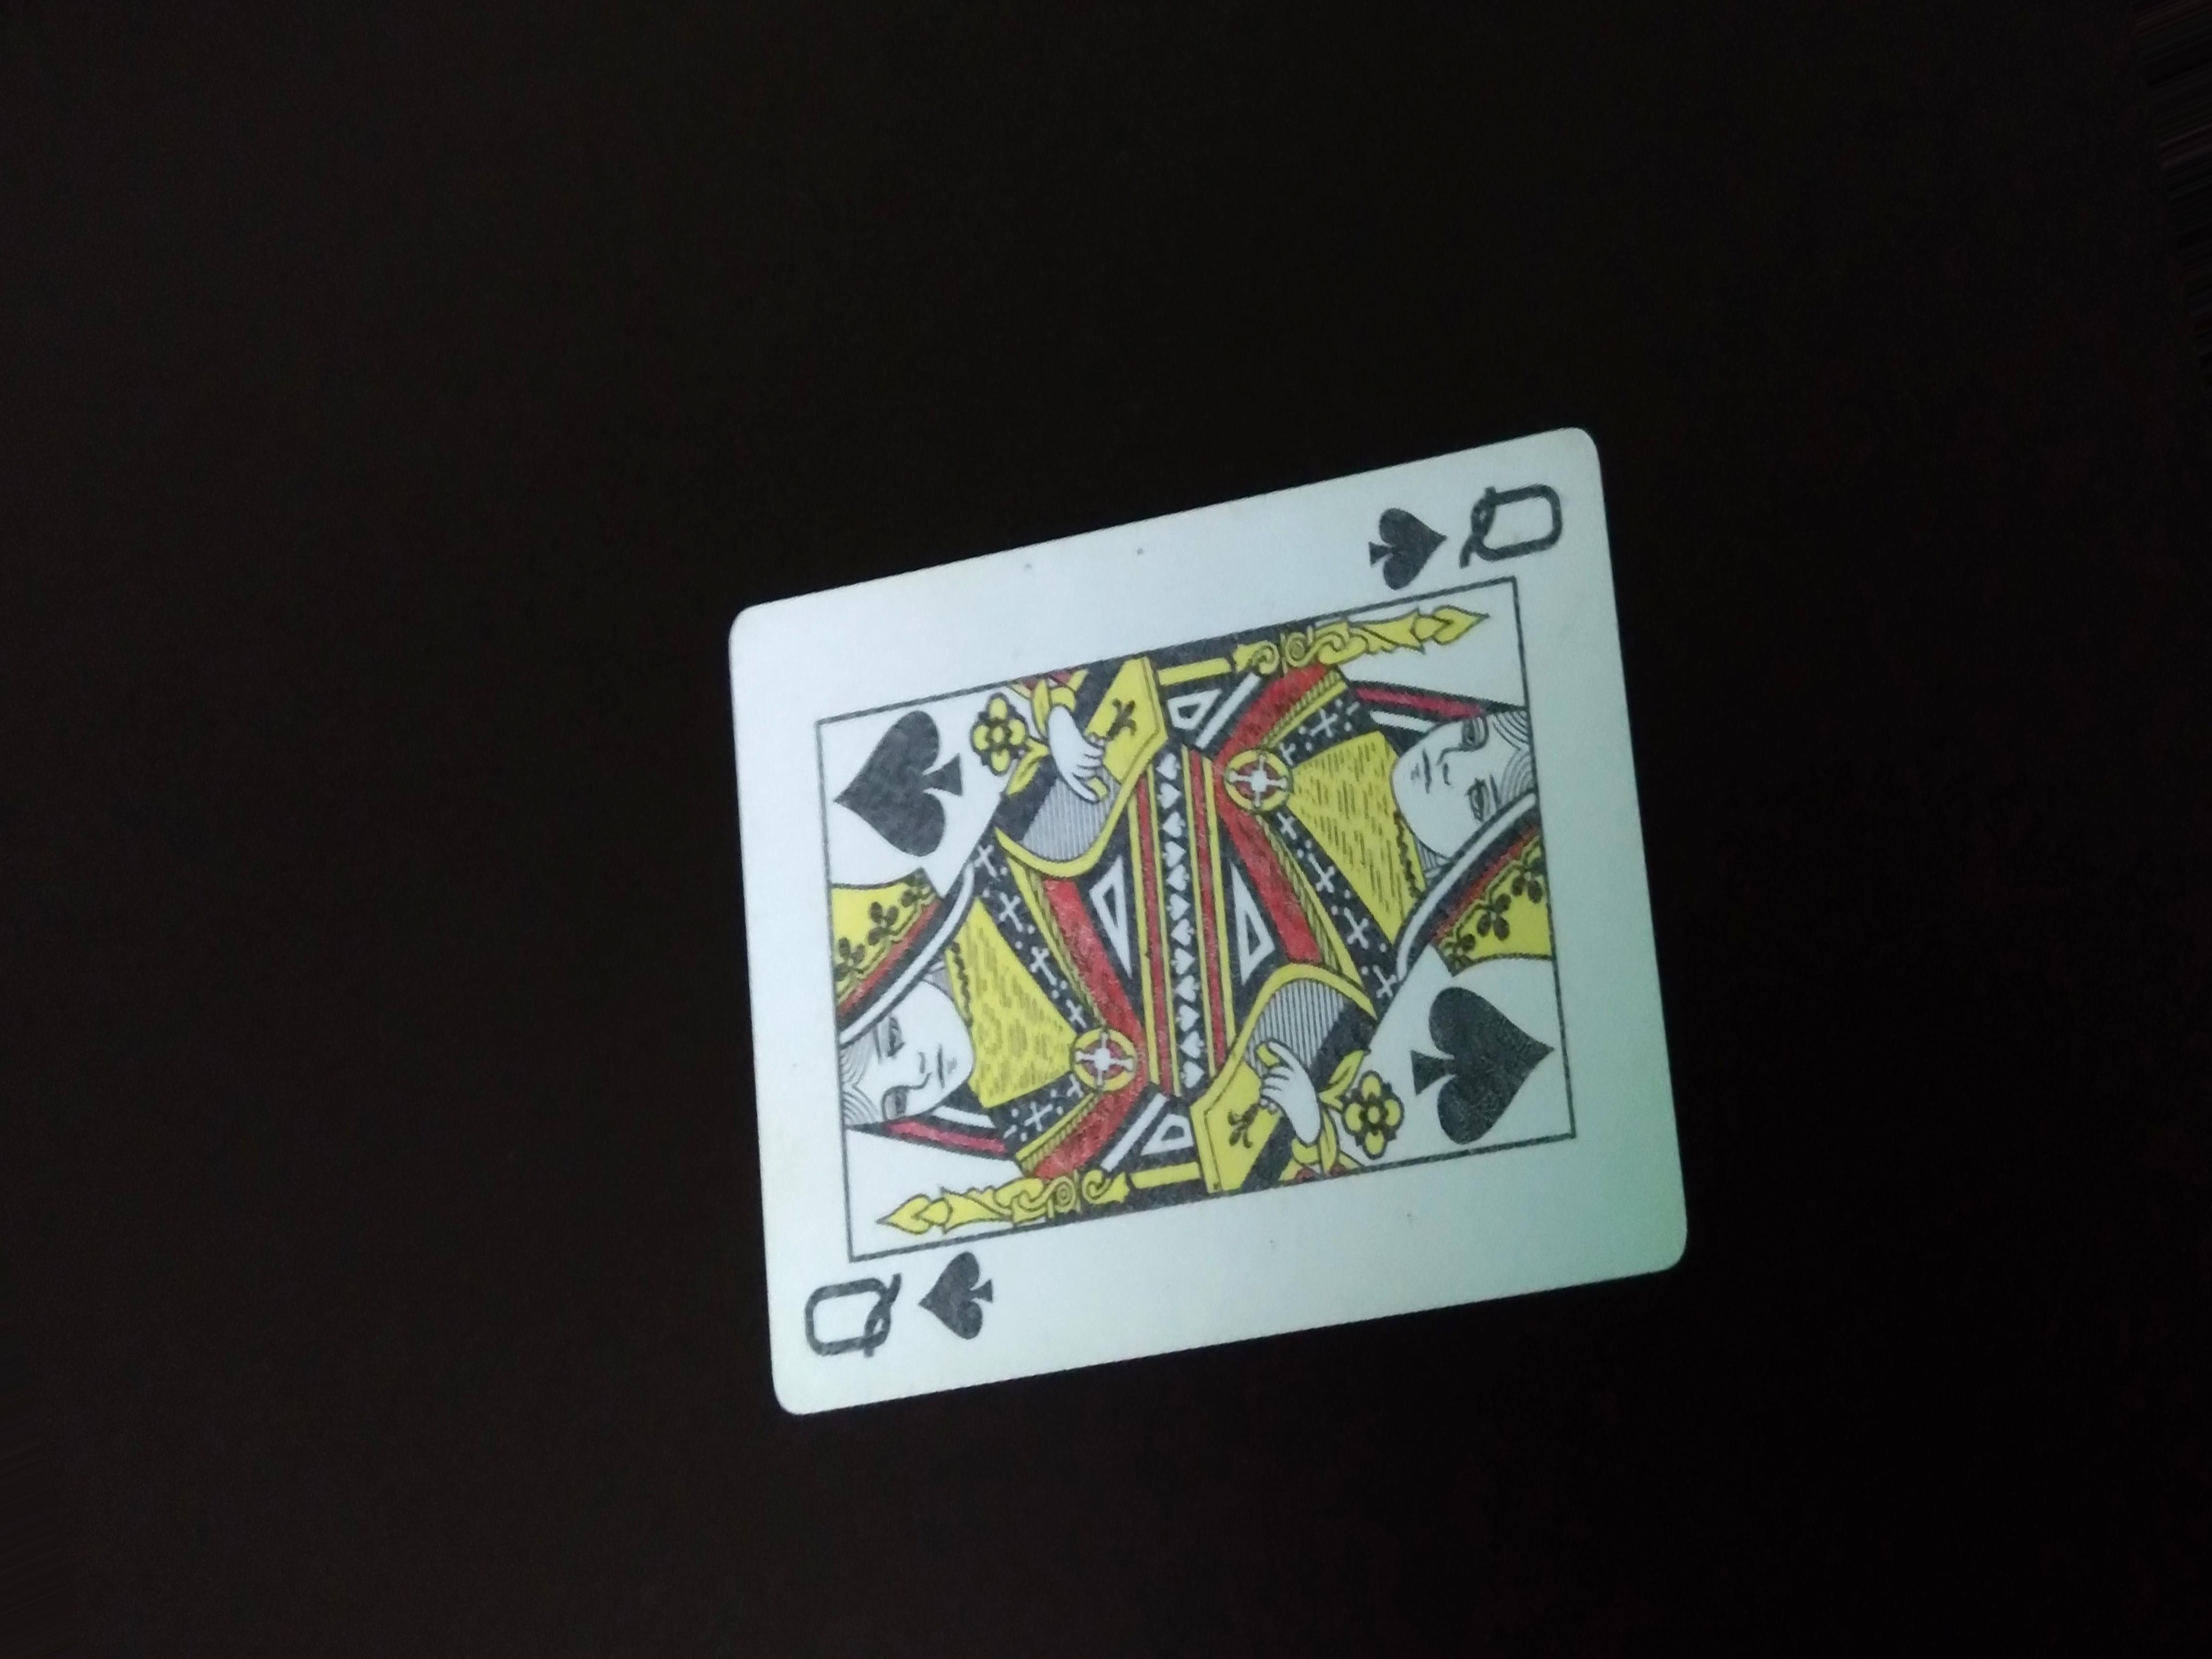QS: (789, 1249, 1012, 1370)
